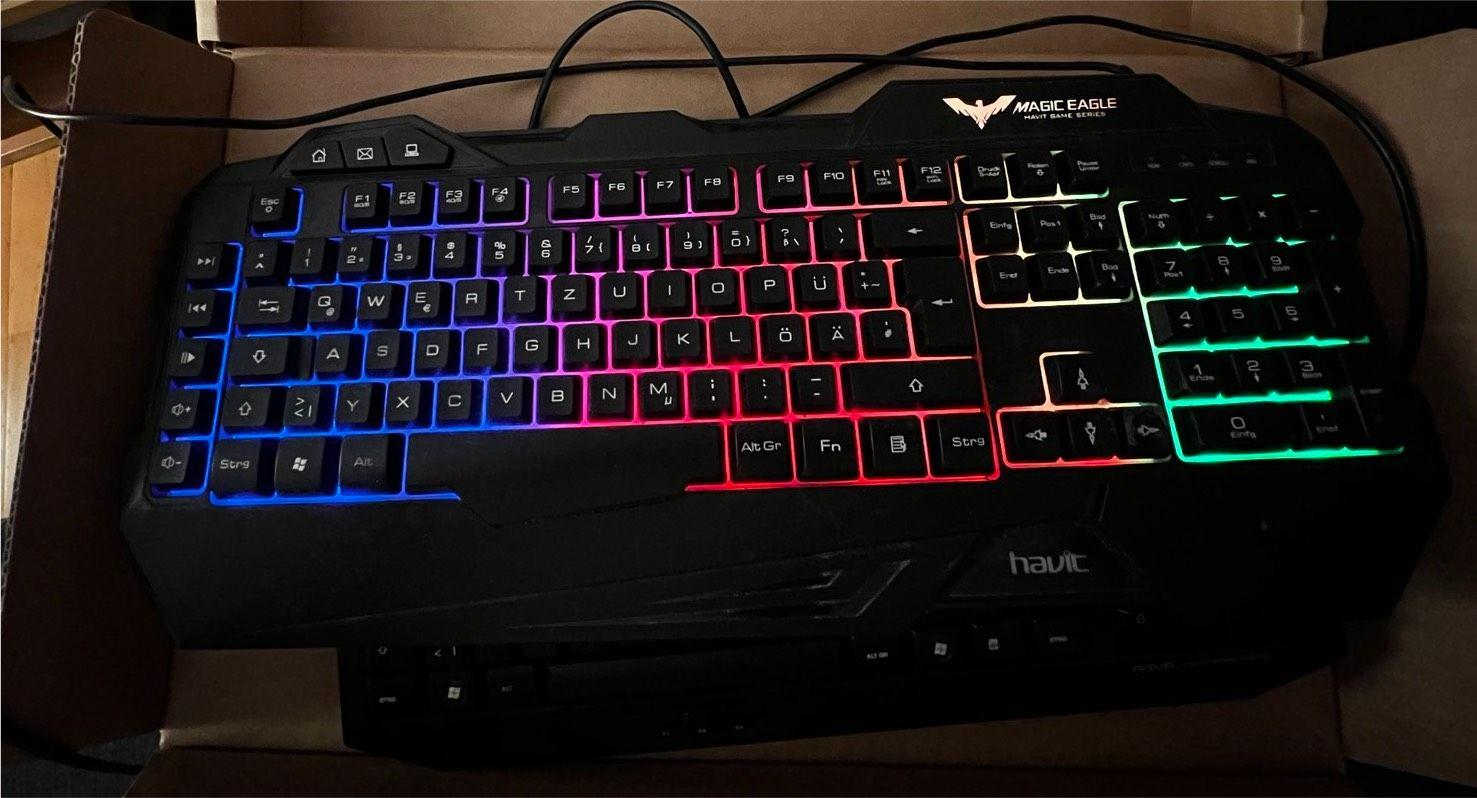0: (715, 214, 758, 257)
1: (287, 234, 322, 272)
2: (335, 232, 371, 272)
3: (383, 228, 419, 272)
4: (431, 228, 467, 270)
5: (477, 224, 517, 268)
6: (525, 225, 564, 266)
7: (572, 219, 612, 264)
8: (618, 218, 659, 263)
9: (667, 214, 709, 261)
a: (313, 330, 347, 372)
accent: (815, 208, 857, 253)
ae: (809, 308, 856, 355)
alt-left: (334, 430, 388, 489)
altgr-right: (727, 416, 790, 480)
b: (534, 370, 578, 418)
c: (434, 375, 472, 419)
caret: (241, 237, 276, 274)
comma: (687, 364, 730, 412)
d: (413, 325, 449, 369)
del: (862, 203, 955, 252)
e: (404, 277, 439, 319)
enter: (890, 252, 974, 353)
f: (461, 324, 498, 366)
g: (511, 320, 549, 364)
h: (560, 318, 602, 363)
hash: (857, 306, 908, 354)
i: (646, 266, 688, 307)
j: (609, 316, 652, 362)
k: (659, 314, 702, 358)
keyboard: (115, 129, 1438, 522)
l: (708, 311, 753, 357)
less: (281, 382, 318, 424)
m: (635, 366, 681, 415)
minus: (787, 360, 834, 407)
n: (585, 368, 630, 415)
o: (694, 264, 737, 307)
oe: (758, 310, 804, 357)
p: (744, 262, 787, 305)
plus: (842, 256, 888, 303)
point: (738, 363, 783, 409)
q: (305, 281, 341, 322)
r: (451, 275, 487, 316)
s: (363, 327, 398, 370)
shift-left: (218, 384, 269, 426)
shift-lock: (225, 334, 289, 376)
shift-right: (840, 357, 980, 408)
space: (403, 419, 718, 514)
ss: (764, 211, 807, 256)
strg-left: (208, 435, 261, 493)
strg-right: (934, 410, 994, 474)
t: (501, 271, 536, 311)
tab: (233, 282, 294, 324)
u: (597, 268, 639, 311)
ue: (793, 259, 837, 305)
v: (485, 372, 524, 417)
w: (355, 279, 392, 318)
x: (383, 377, 419, 420)
y: (334, 379, 370, 421)
z: (548, 270, 589, 311)
